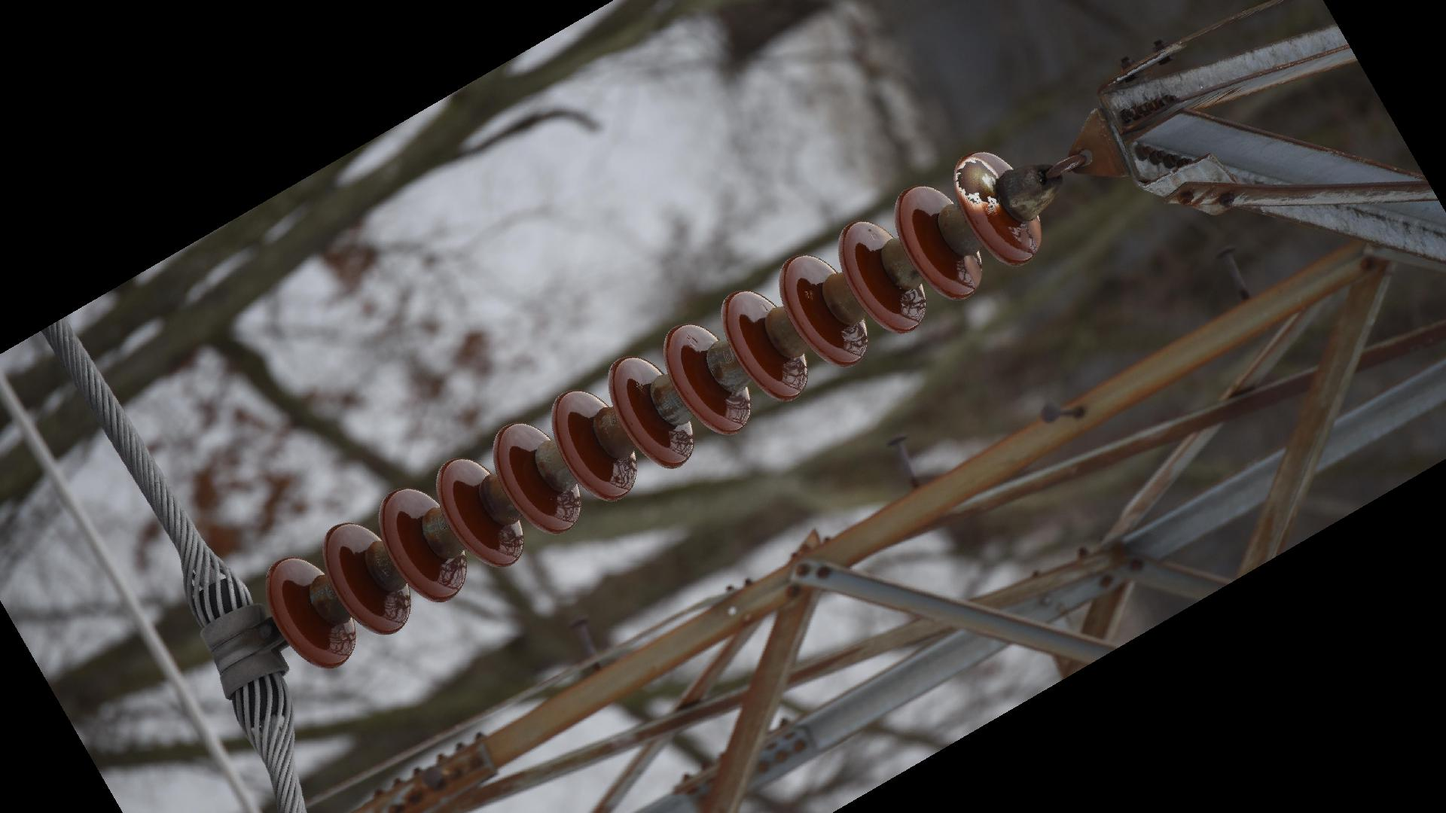insulator: (258, 144, 1049, 674)
insulator_flashover: (950, 153, 1003, 212)
